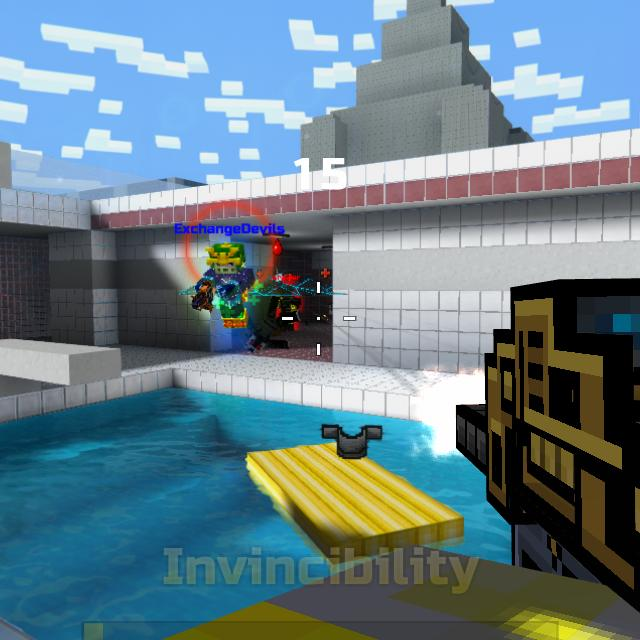Enemy: (279, 287, 302, 330)
